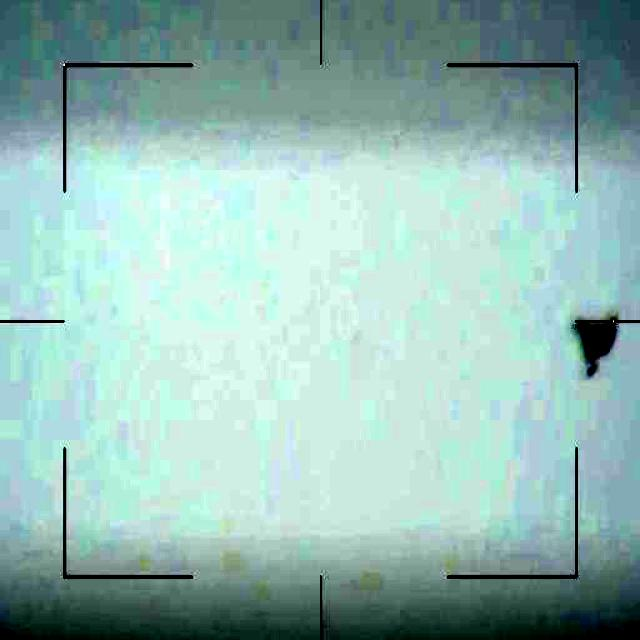bird: (569, 310, 622, 382)
